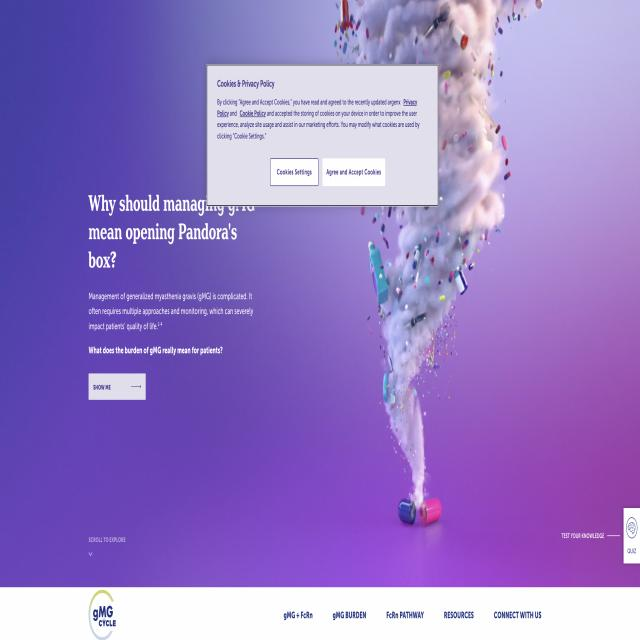Logo: (79, 590, 129, 640)
Navigation: (276, 592, 548, 640)
